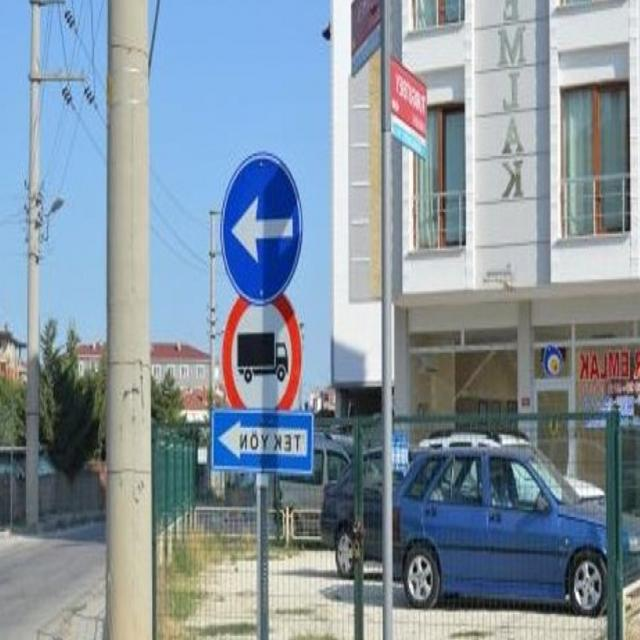Turn Left: (219, 151, 304, 304)
